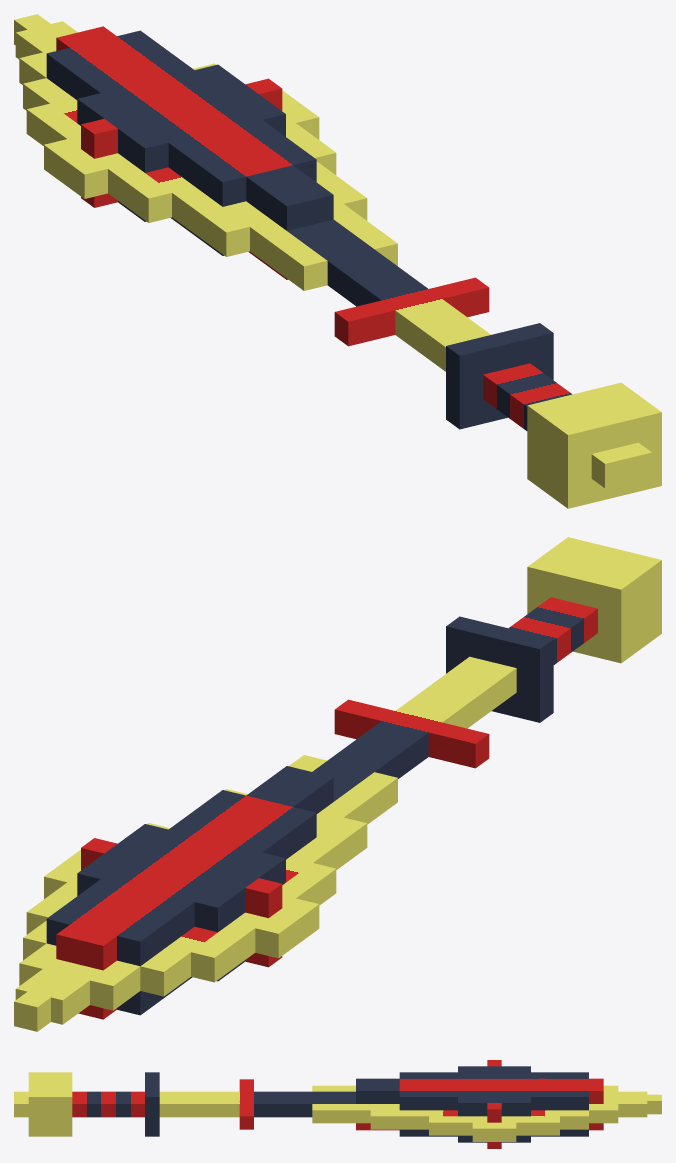
File: ce9633b1-5d90-4ad7-afe6-e26bae7d3d07.gltf
3 views of the same model, one above another, from view 1: azimuth 30°, elevation 25°; view 2: azimuth 150°, elevation 25°; view 3: azimuth 270°, elevation 25° (orthographic). The views are drawn at different scales.
Visible parts, largest first — view 1: blade-Local, Equip_Right_Hand-Local; view 2: blade-Local, Equip_Right_Hand-Local, Handle-Local; view 3: blade-Local, Equip_Right_Hand-Local, Handle-Local.
Boxes of the visible parts, x1,y1,x2,y2 form: blade-Local: [15, 21, 489, 348]; Equip_Right_Hand-Local: [415, 313, 661, 508]; blade-Local: [15, 691, 489, 1024]; Equip_Right_Hand-Local: [416, 537, 661, 727]; Handle-Local: [14, 991, 50, 1031]; blade-Local: [218, 1060, 647, 1148]; Equip_Right_Hand-Local: [14, 1072, 217, 1136]; Handle-Local: [647, 1094, 661, 1114].
Size of the model in its own units: 10 by 3 by 44.48.
3 materials, 3 textured.
